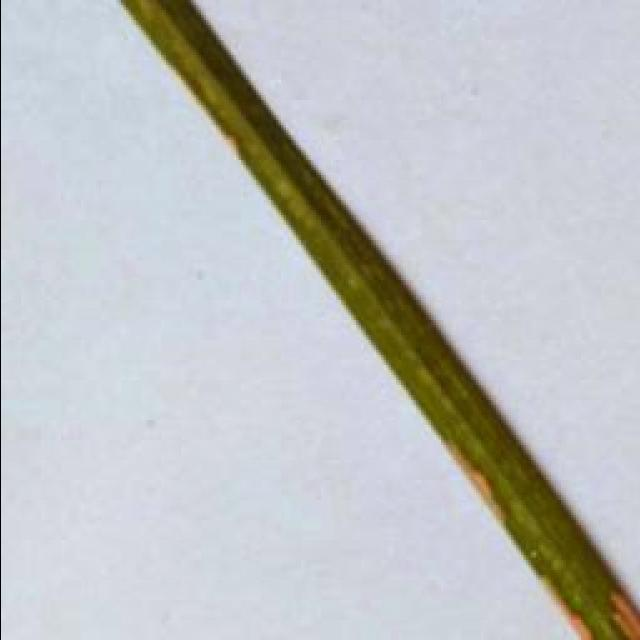Unhealthy: (441, 437, 507, 523), (611, 592, 640, 640), (568, 614, 592, 640)
